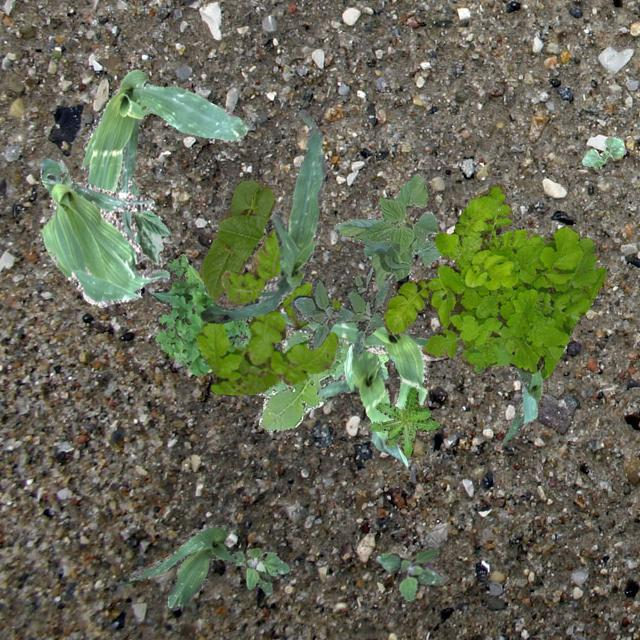crop: (80, 68, 248, 240), (200, 109, 326, 322), (40, 158, 168, 306), (276, 306, 460, 408), (332, 172, 440, 286), (316, 342, 406, 464), (120, 522, 236, 610), (200, 180, 274, 298), (114, 174, 170, 262), (502, 367, 542, 442), (580, 136, 624, 166)
weed: (382, 182, 606, 376), (194, 228, 340, 394), (238, 328, 388, 430), (150, 252, 252, 374), (290, 266, 394, 354), (368, 386, 440, 456), (377, 546, 442, 600), (233, 546, 289, 594)
